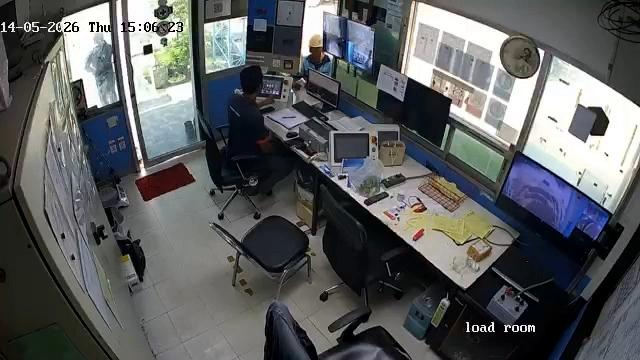Head: (240, 65, 266, 93)
People: (226, 63, 295, 197)
